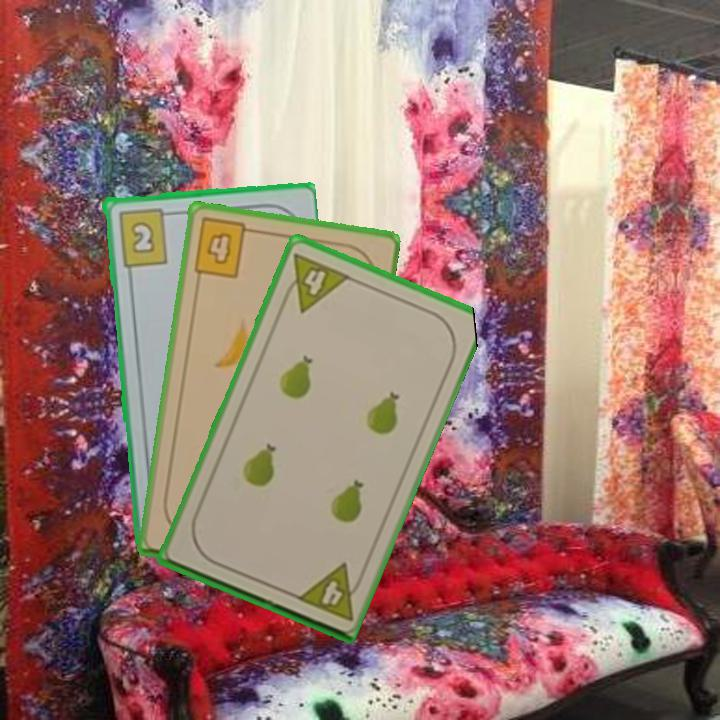2b: (114, 204, 176, 269)
4b: (190, 214, 259, 281)
4p: (277, 249, 353, 315), (292, 559, 368, 624)
